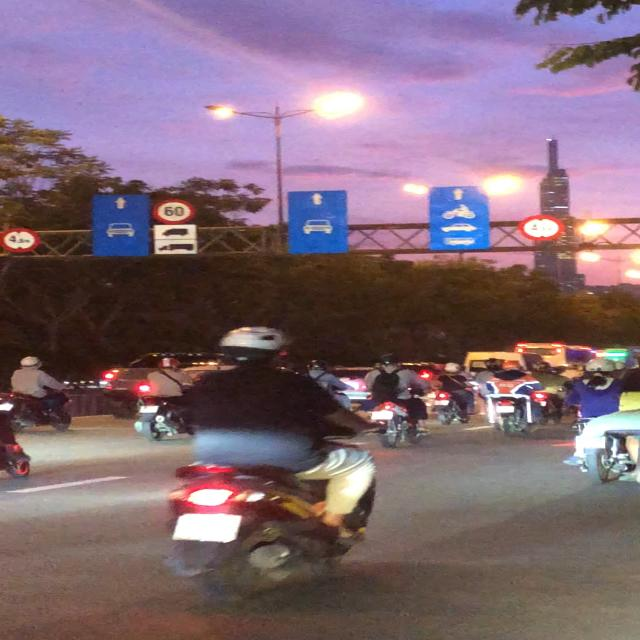Bien bao han che chieu cao: (0, 224, 48, 256)
Bien bao toc do toi da cho phep: (148, 198, 198, 225)
